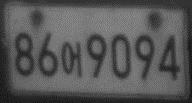0: (109, 33, 133, 78)
4: (158, 34, 182, 81)
6: (37, 32, 59, 76)
8: (14, 32, 35, 77)
9: (85, 33, 108, 79), (133, 32, 155, 80)
어: (60, 40, 84, 78)
